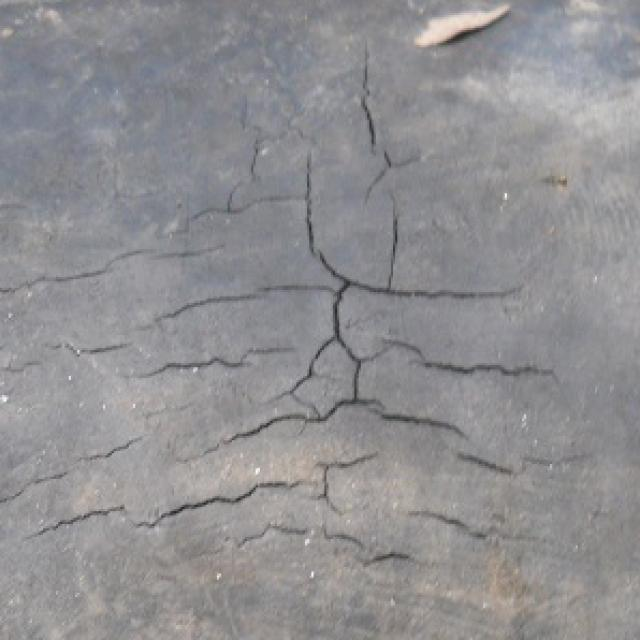Cracks: (0, 0, 629, 599)
